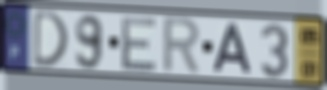3: (258, 21, 290, 81)
9: (73, 12, 105, 70)
A: (211, 21, 255, 76)
D: (31, 8, 70, 70)
E: (120, 16, 159, 73)
R: (160, 15, 203, 77)
